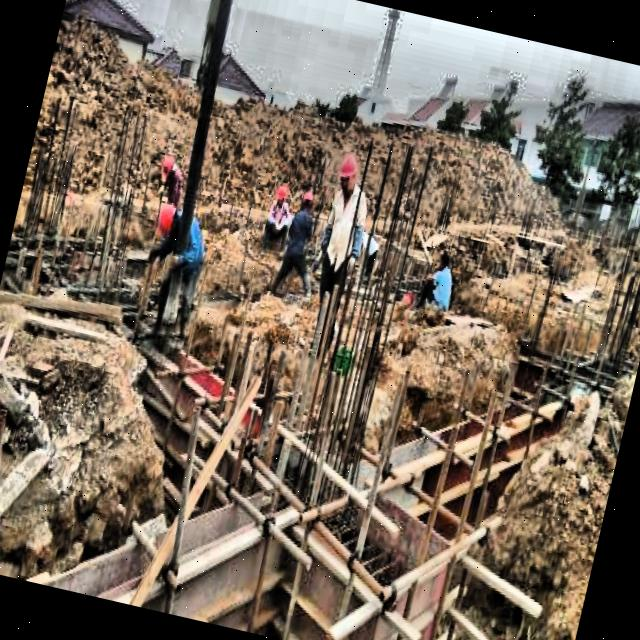helmet: (330, 150, 364, 201), (150, 200, 182, 240), (270, 177, 292, 215), (156, 150, 180, 183)
